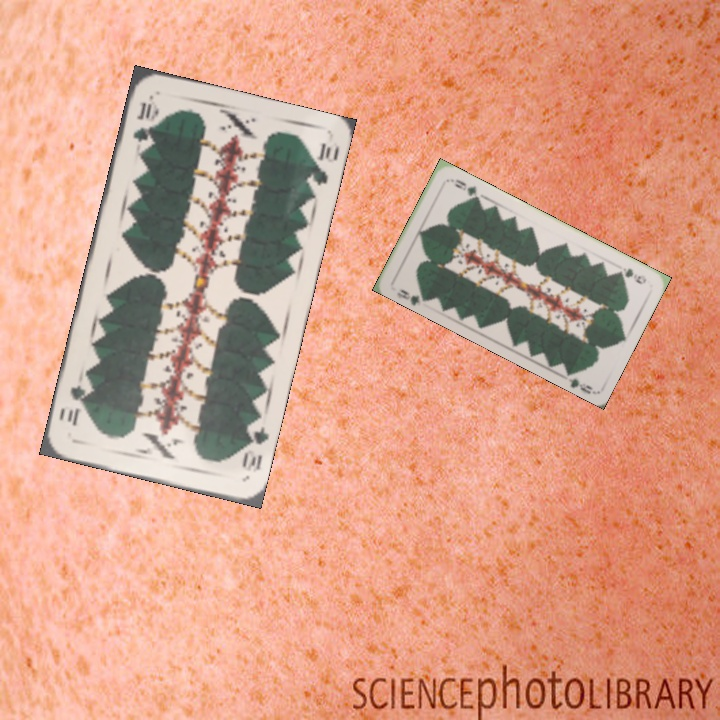G10: (238, 418, 271, 475), (128, 98, 159, 145)
G9: (613, 264, 649, 287), (393, 285, 429, 307)
